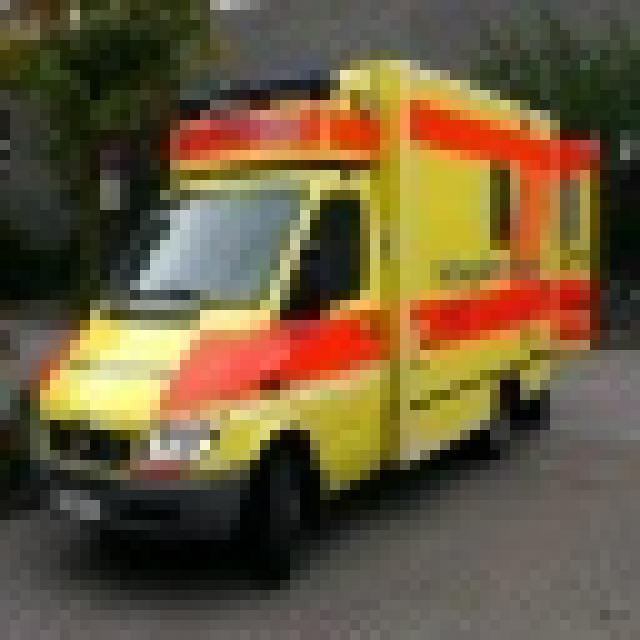Ambulance: (20, 50, 600, 580)
